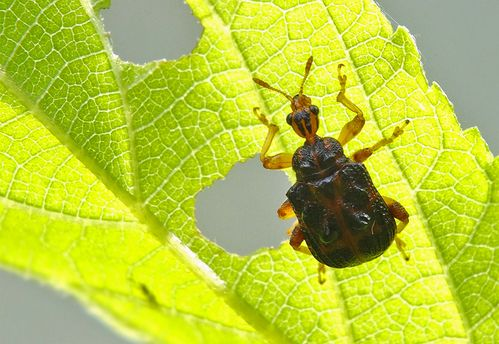Curculionidae: (251, 56, 414, 284)
